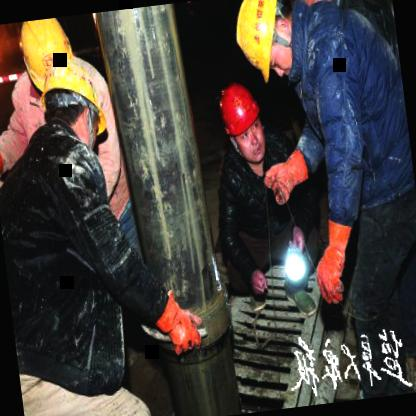helmet: (37, 58, 113, 158), (222, 0, 306, 84), (14, 15, 83, 110), (213, 73, 271, 169)
